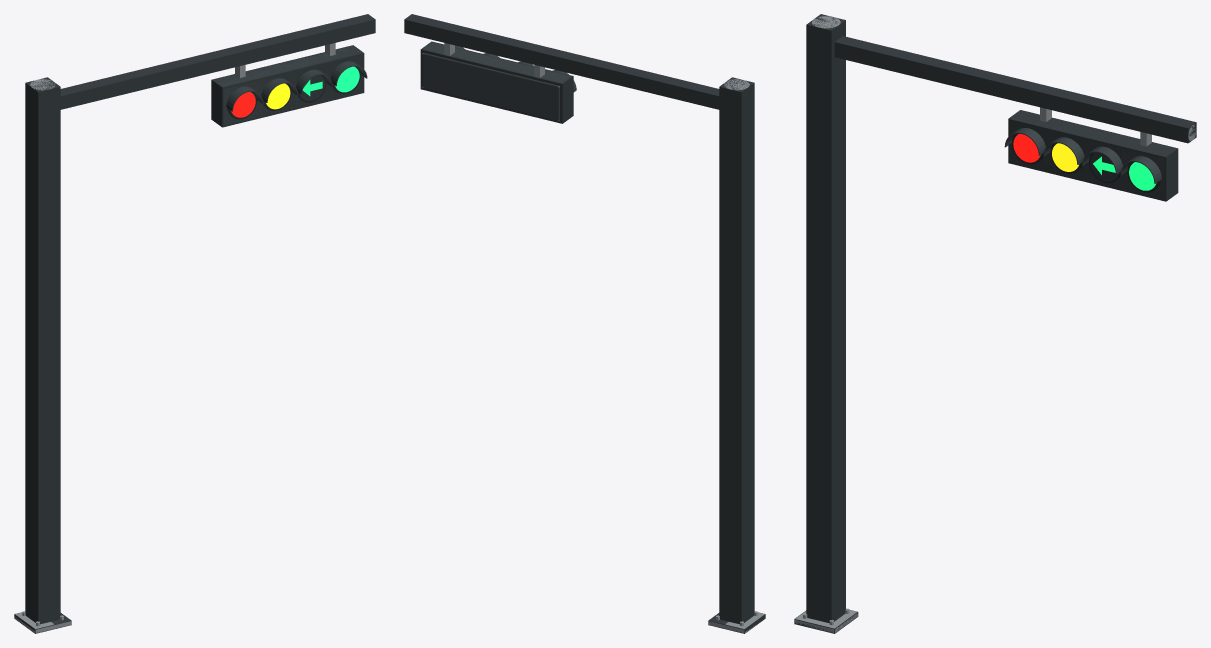
Rendered from SIMUS_TrafficSignal_Vehicle.fbx.
3 renders of one model, left to right at view 1: azimuth 30°, elevation 25°; view 2: azimuth 150°, elevation 25°; view 3: azimuth 330°, elevation 25°, orthographic. The views are drawn at different scales.
Parts seen in each view (by area): view 1: COL_VEHICLE_POLE, COL_VEHICLE_ARM, COL_VEHICLE_HEAD, VEHICLE_SIGNAL_HEAD, VEHICLE_SIGNAL_VISORS; view 2: COL_VEHICLE_POLE, COL_VEHICLE_ARM, VEHICLE_SIGNAL_BACK_COVER, COL_VEHICLE_HEAD, VEHICLE_SIGNAL_HEAD; view 3: COL_VEHICLE_POLE, COL_VEHICLE_ARM, COL_VEHICLE_HEAD, VEHICLE_SIGNAL_HEAD, VEHICLE_SIGNAL_VISORS, VEHICLE_SIGNAL_BASE.
Boxes of the visible parts, <box> form: COL_VEHICLE_POLE: <box>25,77,60,624</box>; COL_VEHICLE_ARM: <box>60,14,375,109</box>; COL_VEHICLE_HEAD: <box>211,45,364,127</box>; VEHICLE_SIGNAL_HEAD: <box>212,46,359,125</box>; VEHICLE_SIGNAL_VISORS: <box>226,61,367,111</box>; COL_VEHICLE_POLE: <box>719,77,754,624</box>; COL_VEHICLE_ARM: <box>404,14,719,109</box>; VEHICLE_SIGNAL_BACK_COVER: <box>422,52,559,120</box>; COL_VEHICLE_HEAD: <box>420,41,573,123</box>; VEHICLE_SIGNAL_HEAD: <box>423,42,572,114</box>; COL_VEHICLE_POLE: <box>806,14,845,623</box>; COL_VEHICLE_ARM: <box>834,36,1196,143</box>; COL_VEHICLE_HEAD: <box>1008,110,1178,201</box>; VEHICLE_SIGNAL_HEAD: <box>1010,114,1175,198</box>; VEHICLE_SIGNAL_VISORS: <box>1004,128,1161,183</box>; VEHICLE_SIGNAL_BASE: <box>794,610,857,633</box>.
Bounding box in the file's own units: 401 × 593 × 50.
